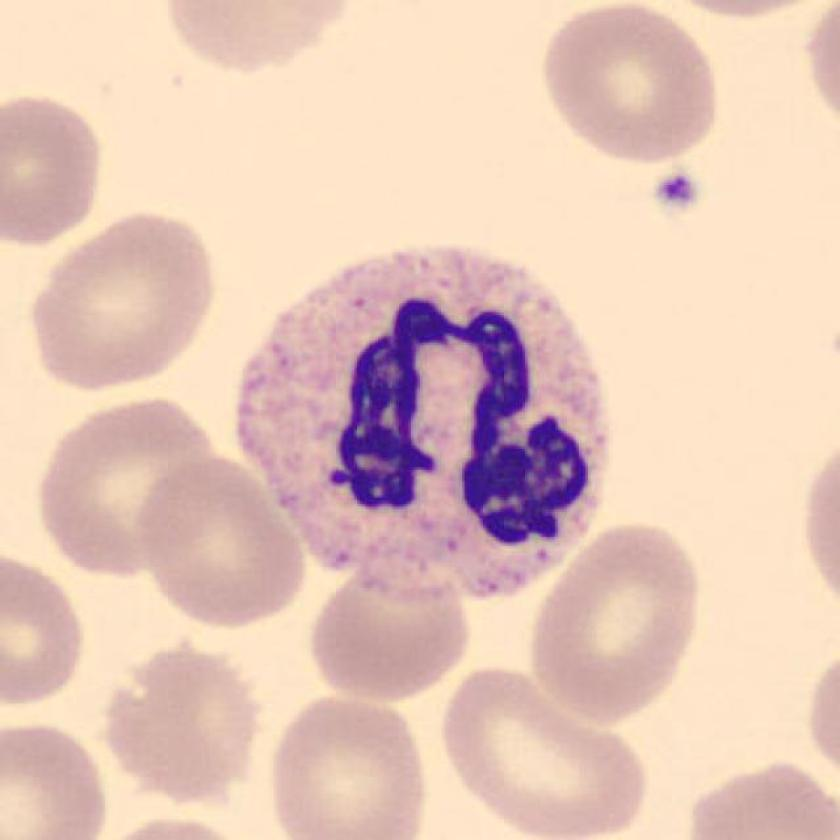neutrophil: (239, 250, 608, 602)
